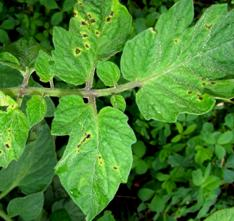Tomato leaf bacterial spot: (115, 0, 234, 125), (47, 93, 143, 221), (47, 0, 144, 88), (0, 102, 30, 170)
